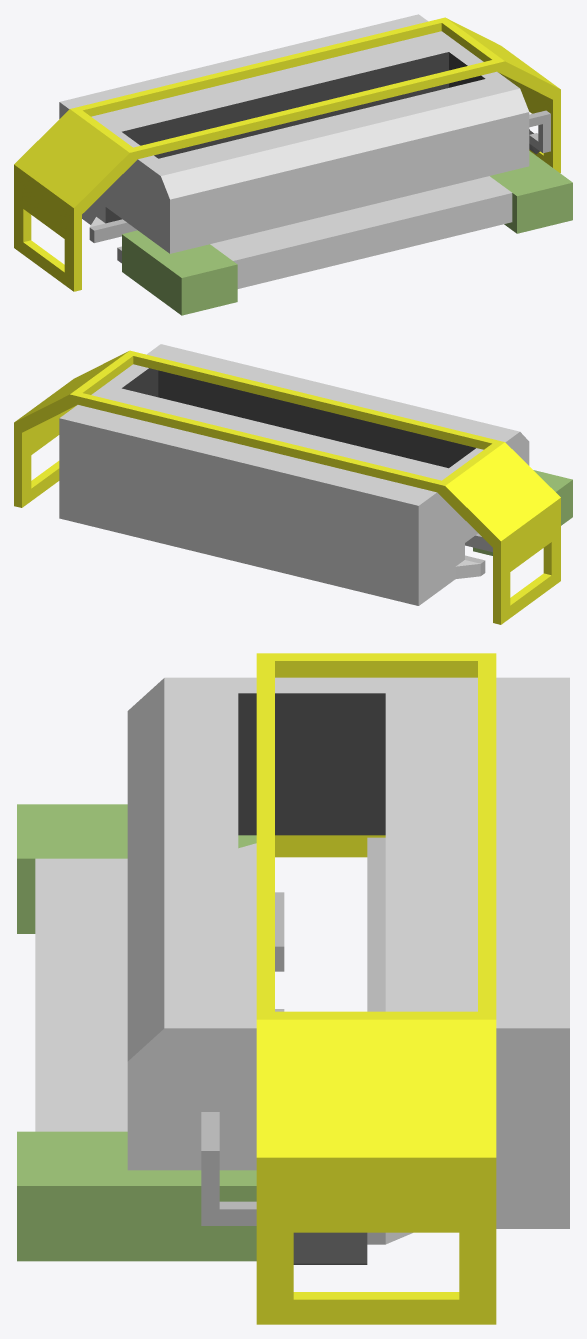
File: cnc_bending_machine_4_state_1.dae
The picture shows the model from 3 angles, top to bottom: view 1: azimuth 30°, elevation 25°; view 2: azimuth 150°, elevation 25°; view 3: azimuth 270°, elevation 25°; orthographic projection. The views are drawn at different scales.
Parts seen in each view (by area): view 1: coords_ME_ID19_MA_material_8, coords_ME_ID27_MA_material_3, coords_ME_ID67_MA_material, coords_ME_ID41_MA_Color_F09_, coords_ME_ID61_MA_Color_F09_, coords_ME_ID55_MA_material_11, coords_ME_ID73_MA_material_11, coords_ME_ID91_MA_material_3; view 2: coords_ME_ID19_MA_material_8, coords_ME_ID27_MA_material_3, coords_ME_ID67_MA_material, coords_ME_ID41_MA_Color_F09_, coords_ME_ID91_MA_material_3; view 3: coords_ME_ID19_MA_material_8, coords_ME_ID27_MA_material_3, coords_ME_ID61_MA_Color_F09_, coords_ME_ID67_MA_material, coords_ME_ID41_MA_Color_F09_, coords_ME_ID73_MA_material_11, coords_ME_ID79_MA_material_8, coords_ME_ID55_MA_material_11, coords_ME_ID49_MA_material, coords_ME_ID35_MA_material_3, coords_ME_ID3_MA_material_11.
Part boxes in pixels (x1,y1,x2,y2): coords_ME_ID19_MA_material_8: (59, 14, 529, 288); coords_ME_ID27_MA_material_3: (14, 17, 560, 291); coords_ME_ID67_MA_material: (105, 52, 485, 223); coords_ME_ID41_MA_Color_F09_: (122, 230, 237, 315); coords_ME_ID61_MA_Color_F09_: (490, 151, 572, 233); coords_ME_ID55_MA_material_11: (529, 110, 550, 153); coords_ME_ID73_MA_material_11: (89, 219, 137, 242); coords_ME_ID91_MA_material_3: (23, 209, 64, 272); coords_ME_ID19_MA_material_8: (59, 344, 529, 605); coords_ME_ID27_MA_material_3: (14, 350, 560, 624); coords_ME_ID67_MA_material: (122, 368, 475, 468); coords_ME_ID41_MA_Color_F09_: (473, 470, 572, 555); coords_ME_ID91_MA_material_3: (510, 542, 551, 605); coords_ME_ID19_MA_material_8: (35, 677, 569, 1244); coords_ME_ID27_MA_material_3: (256, 653, 496, 1324); coords_ME_ID61_MA_Color_F09_: (17, 1131, 256, 1261); coords_ME_ID67_MA_material: (238, 693, 385, 835); coords_ME_ID41_MA_Color_F09_: (17, 804, 256, 933); coords_ME_ID73_MA_material_11: (367, 837, 385, 1244); coords_ME_ID79_MA_material_8: (238, 843, 256, 1012); coords_ME_ID55_MA_material_11: (201, 1112, 256, 1225); coords_ME_ID49_MA_material: (293, 1232, 367, 1264); coords_ME_ID35_MA_material_3: (293, 1292, 459, 1299); coords_ME_ID3_MA_material_11: (275, 892, 284, 1011).
Size of the model in its own units: 76.85 by 18.9 by 37.8.
